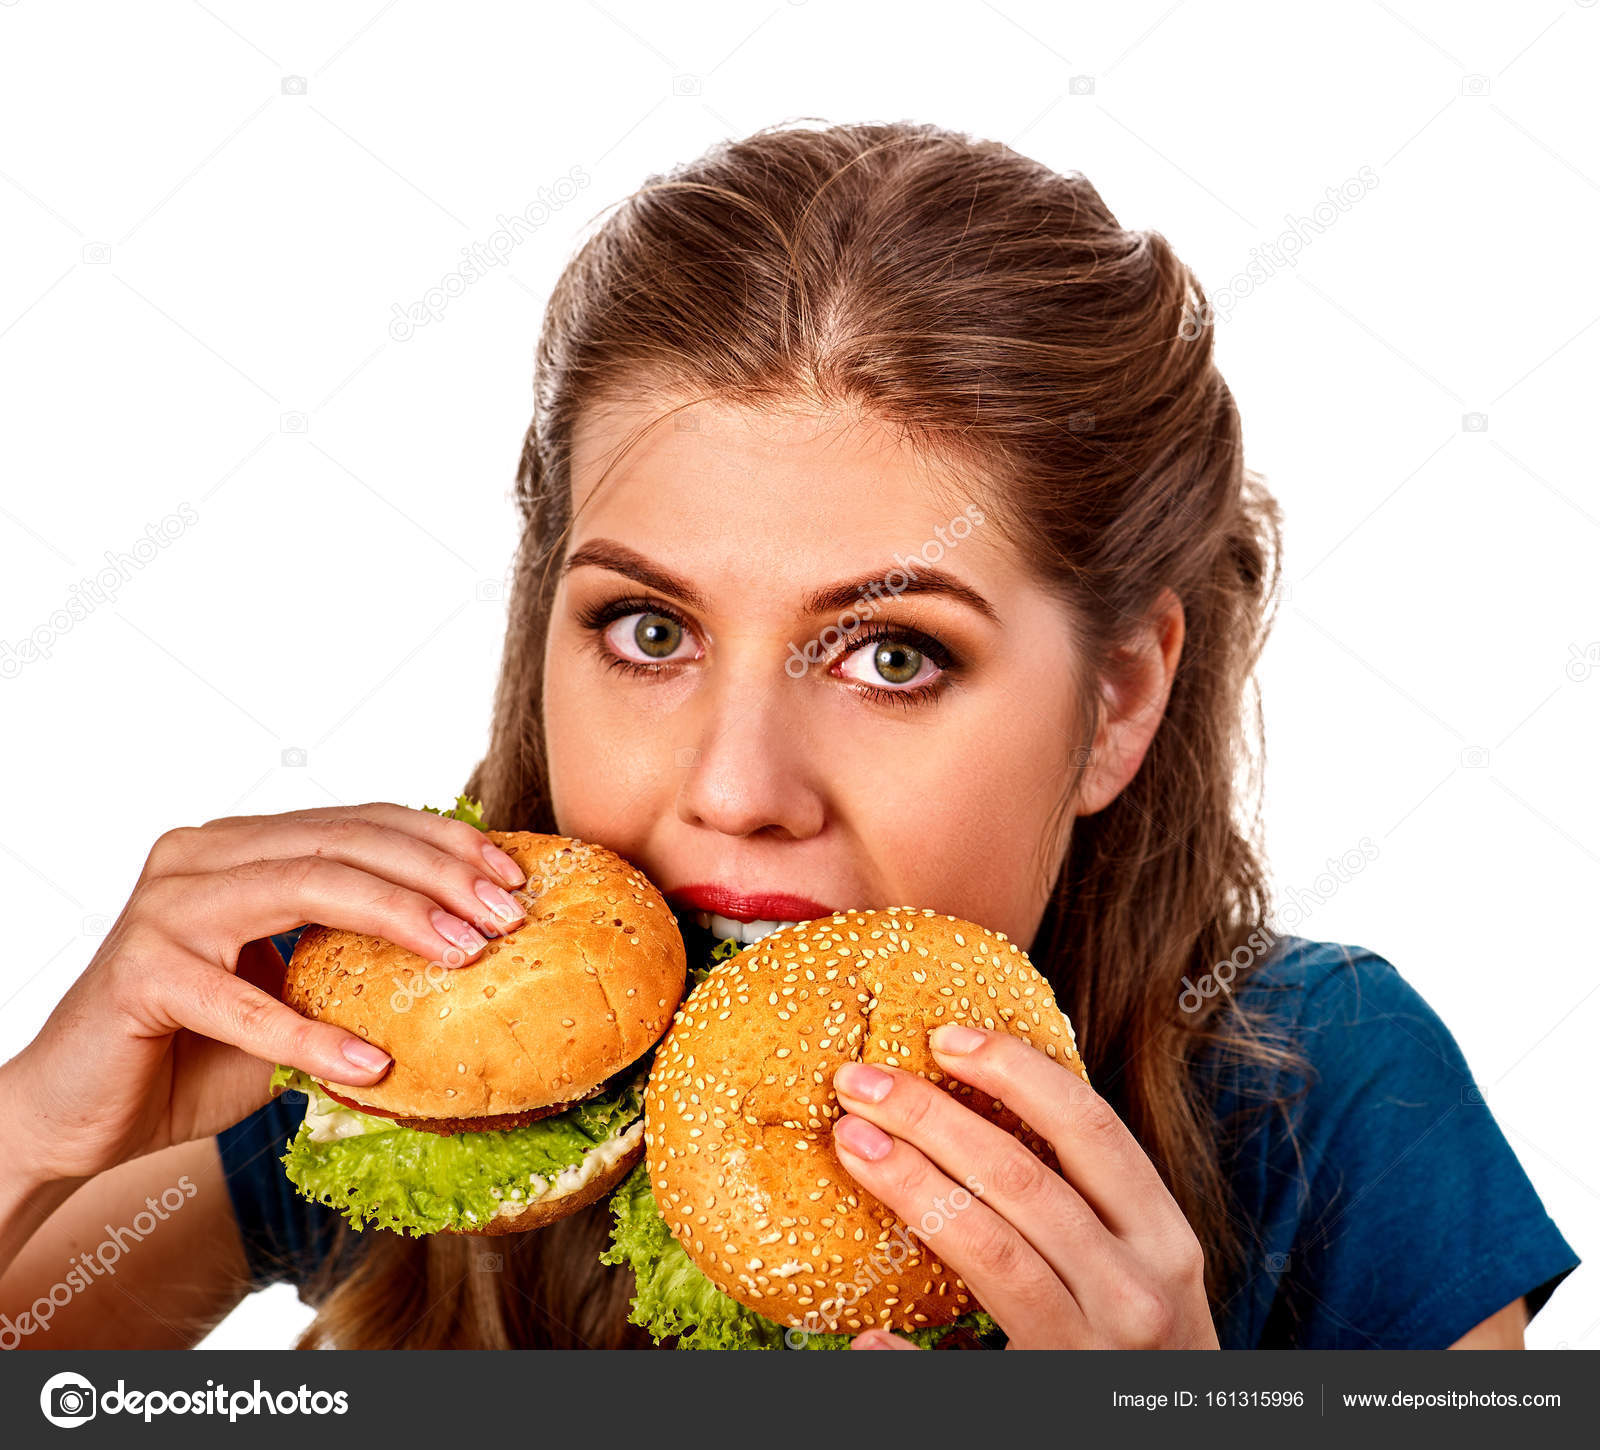eating: (170, 86, 1387, 1312)
